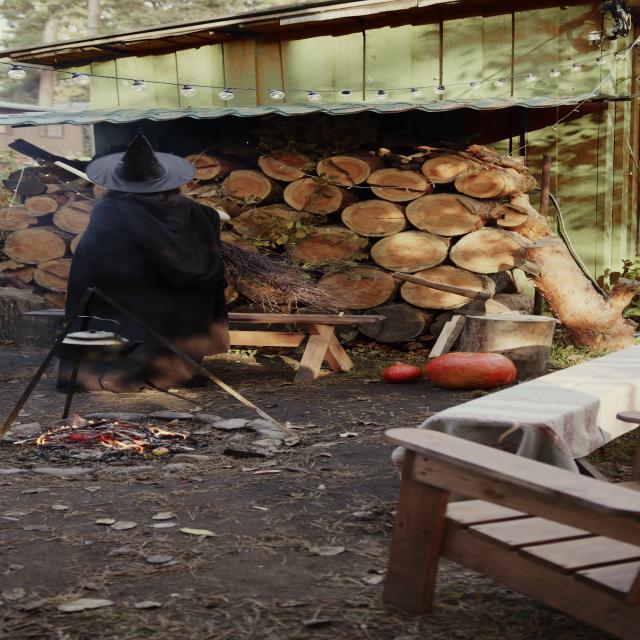Fire: (50, 413, 192, 454)
